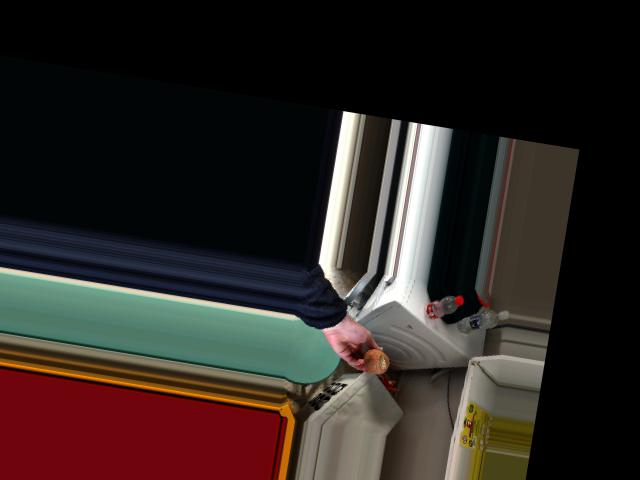sweet_potato: (358, 347, 390, 373)
